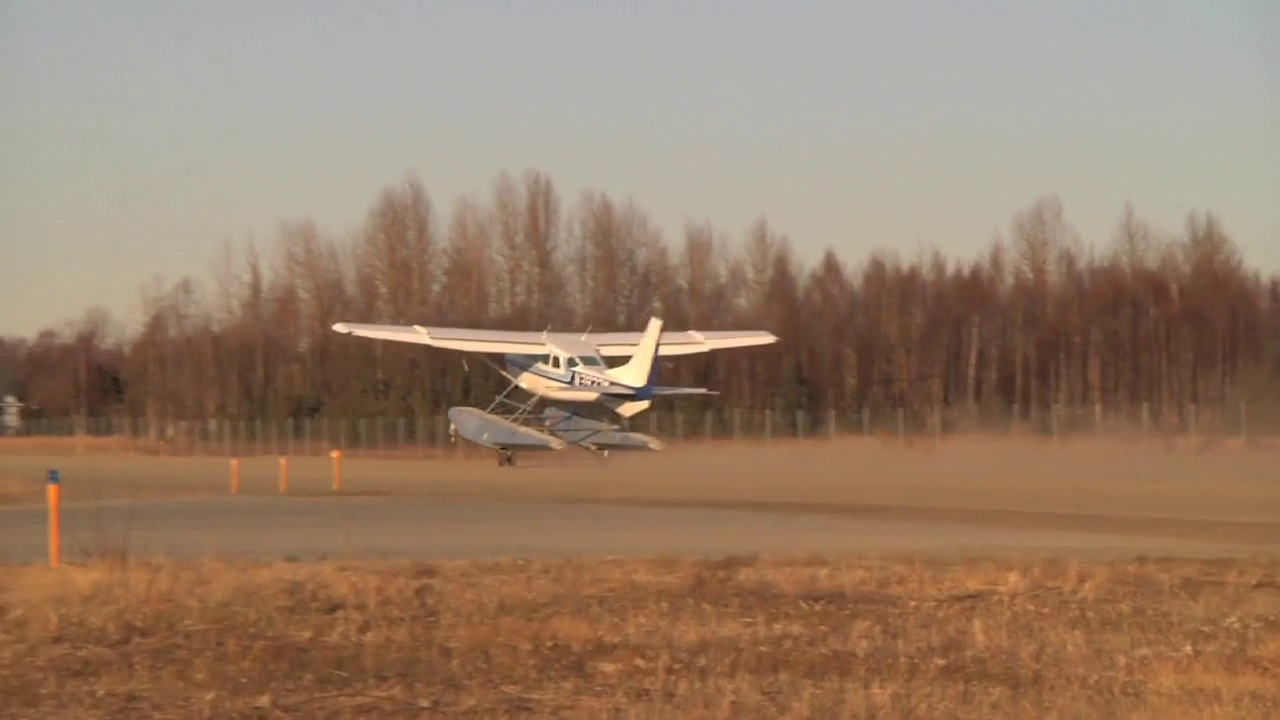plane: (330, 316, 776, 464)
